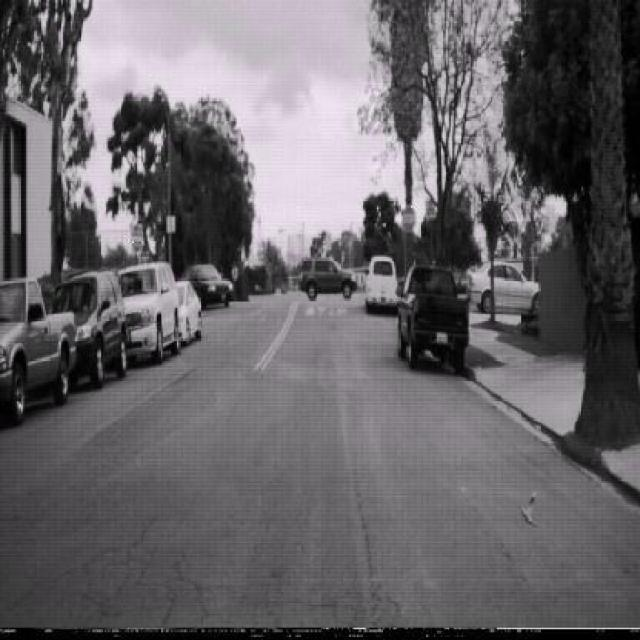doNotEnter: (131, 222, 143, 254)
stop: (401, 204, 417, 236)
